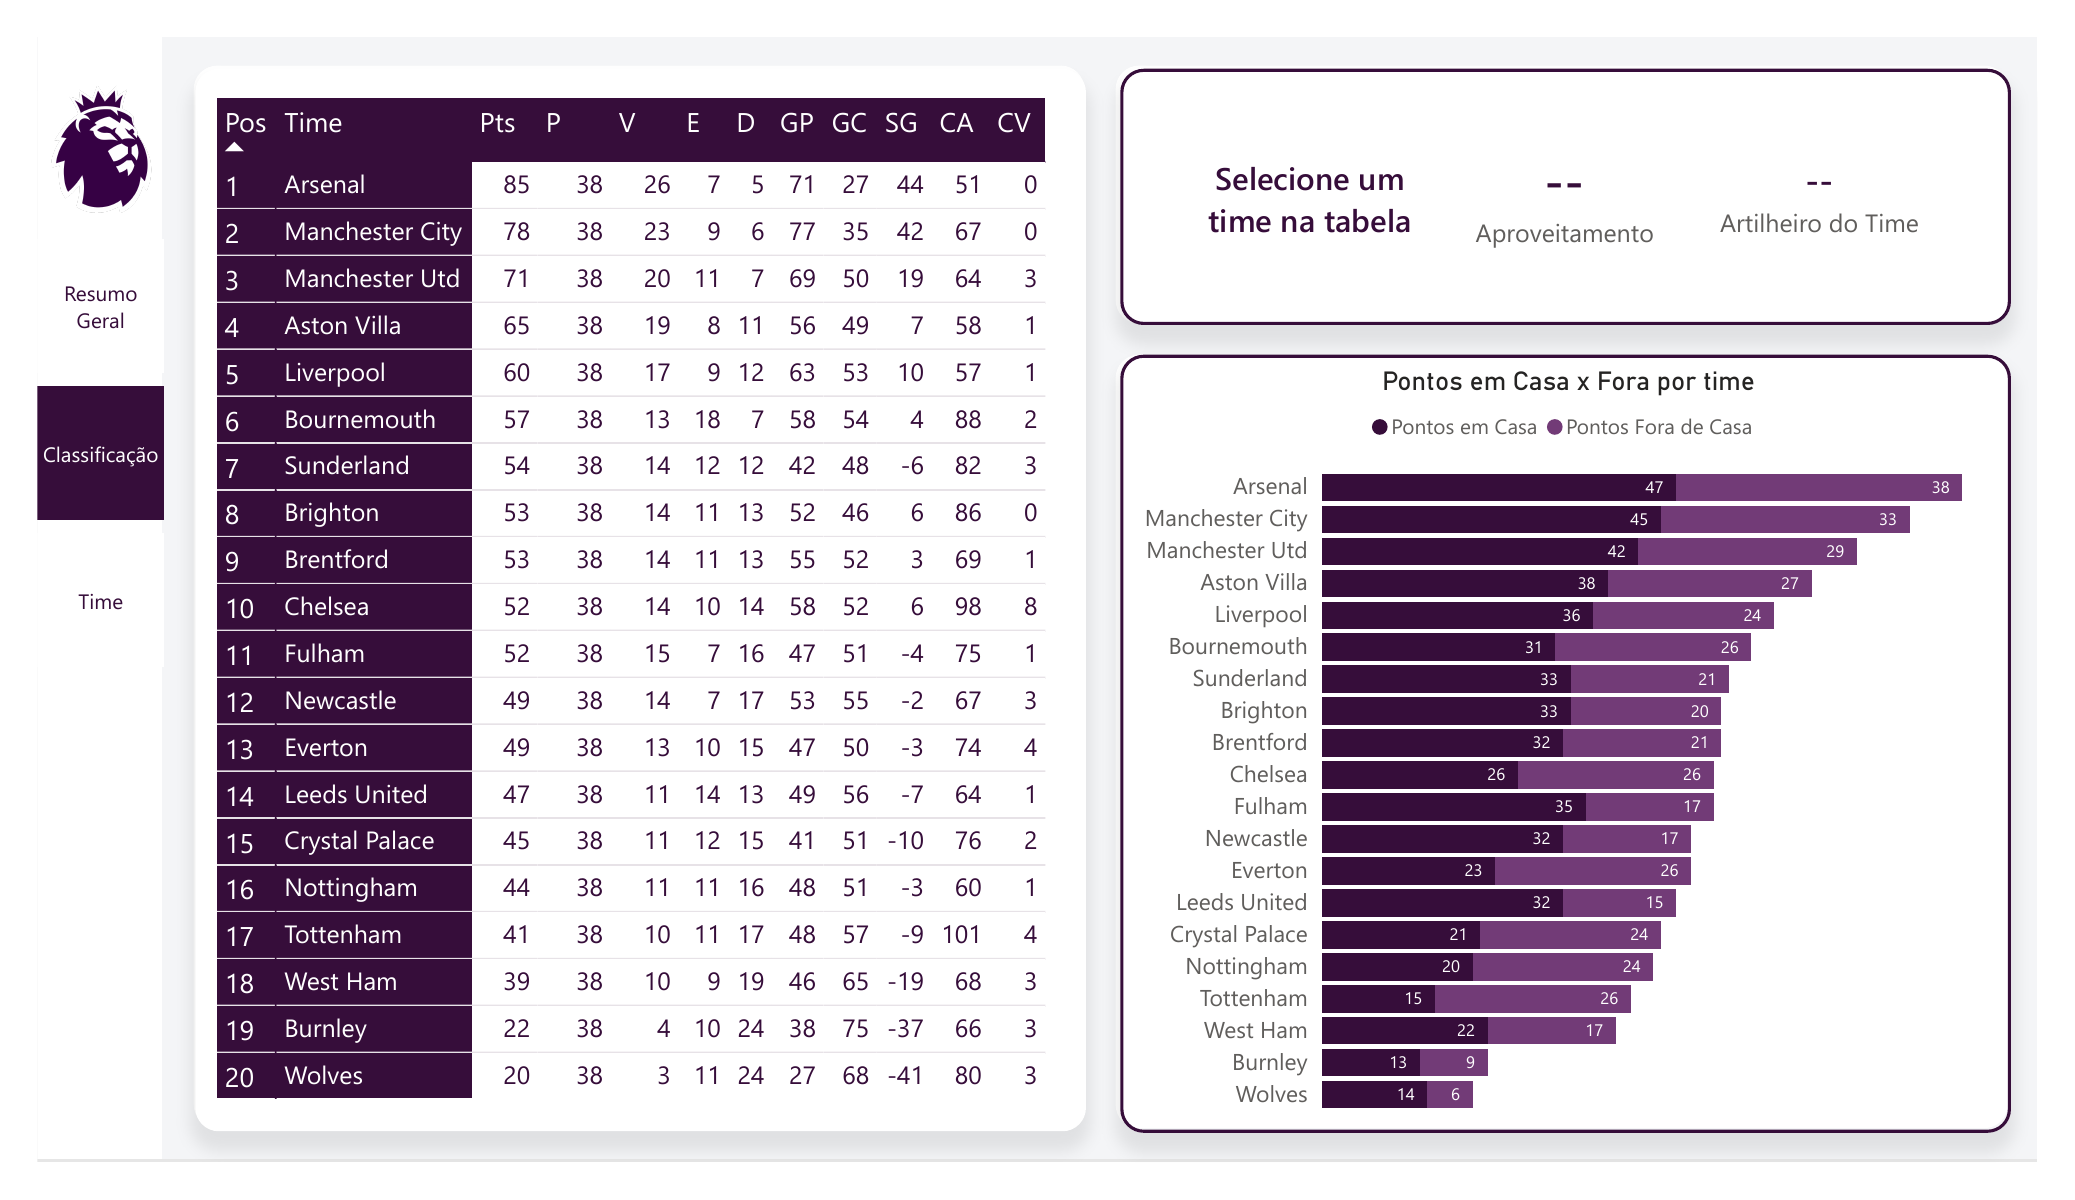

Layout of this report page (visuals, bound fields, positions):
{"tool":"powerbi","page":{"name":"Classificação","canvas":[1280,720],"ordinal":1},"visuals":[{"type":"image","box":[0,0,80.7,142.8],"z":0},{"type":"pageNavigator","box":[0,128.9,81.1,275.6],"z":1000},{"type":"pivotTable","fields":{"Values":["Min(Times.squad)","Sum(Classificação.pts)","Sum(Classificação.matches_played)","Sum(Classificação.wins)","Sum(Classificação.draws)","Sum(Classificação.loses)","Sum(Classificação.gf)","Sum(Classificação.ga)","Sum(Classificação.gd)","Sum(Estatísticas dos Jogadores.cards_yellow)","Sum(Estatísticas dos Jogadores.cards_red)"],"Rows":["Classificação.rk"]},"box":[100.6,20,570,680],"z":2000},{"type":"cardVisual","fields":{"Data":["_Medidas.Titulo Raio X","_Medidas.Aproveitamento","_Medidas.Artilheiro Time"]},"box":[692.5,20,570.6,164.4],"z":3000},{"type":"barChart","title":"Pontos em Casa x Fora por time","fields":{"Category":["Times.squad"],"Y":["_Medidas.Pts Casa","_Medidas.Pts Fora"]},"box":[692.5,203.1,570.6,498.1],"z":4000}]}

Visuals, with their boxes on the page's 1280x720 design canvas (x1, y1, x2, y2). These are canvas units, not pixel positions in the 2075x1200 screenshot, which may show the page scaled, cropped or inside an application window:
image: detection(0, 0, 81, 143)
pageNavigator: detection(0, 129, 81, 404)
pivotTable - Min(Times.squad) x Sum(Classificação.pts): detection(101, 20, 671, 700)
cardVisual - _Medidas.Titulo Raio X x _Medidas.Aproveitamento: detection(692, 20, 1263, 184)
"Pontos em Casa x Fora por time" barChart: detection(692, 203, 1263, 701)
